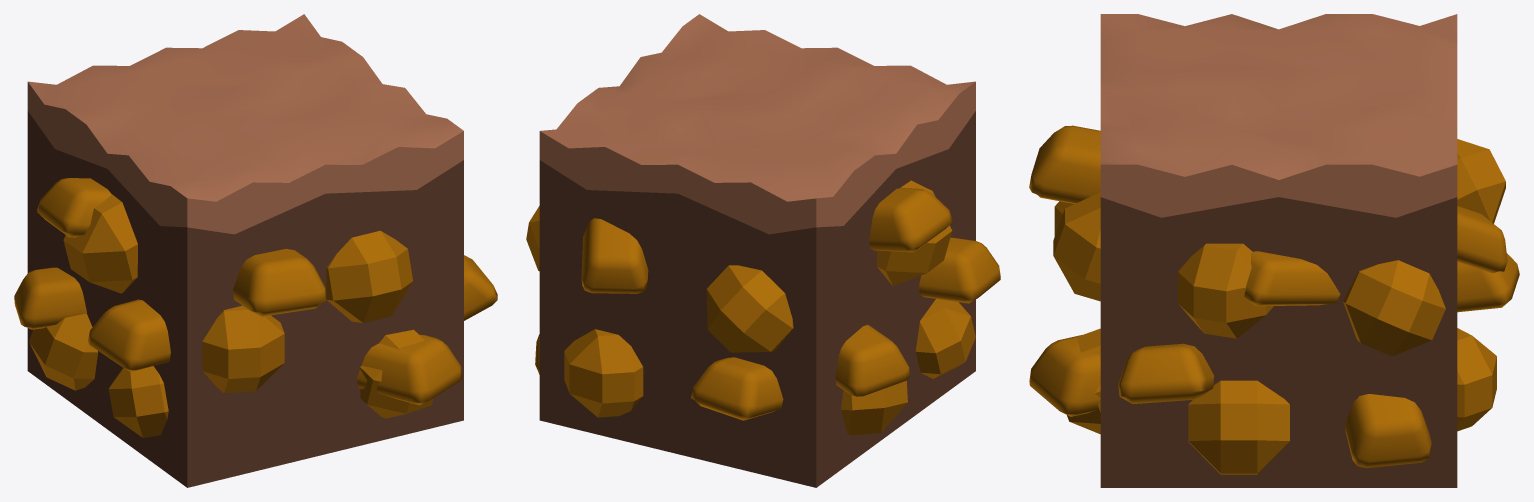
The model's file is Tile(2).fbx.
3 views of the same model, side by side, from view 1: azimuth 30°, elevation 25°; view 2: azimuth 150°, elevation 25°; view 3: azimuth 270°, elevation 25° (orthographic). The views are drawn at different scales.
Parts seen in each view (by area): view 1: Tile3, Tile4; view 2: Tile3, Tile4; view 3: Tile3, Tile4.
Part boxes in pixels (x1,y1,x2,y2): Tile3: [27, 14, 463, 487]; Tile4: [14, 178, 497, 405]; Tile3: [526, 14, 975, 487]; Tile4: [535, 188, 1000, 420]; Tile3: [1053, 14, 1505, 487]; Tile4: [1029, 125, 1519, 468].
Size of the model in its own units: 19.88 by 14.5 by 19.95.
